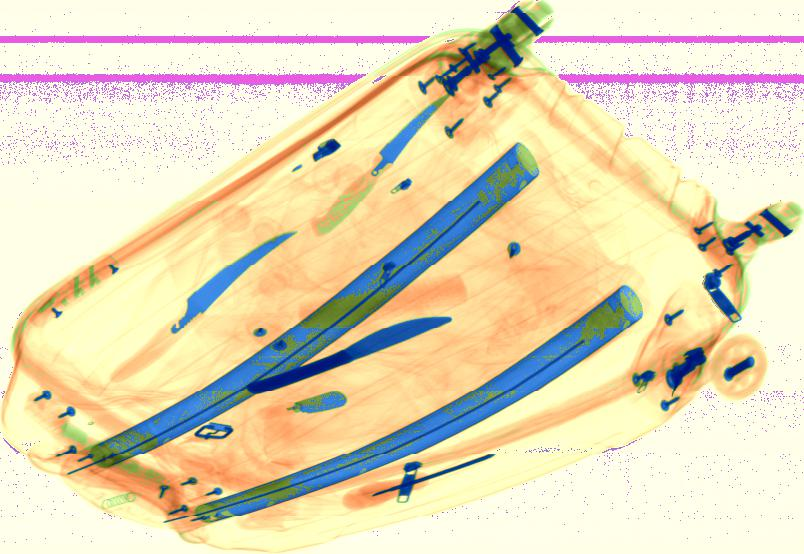Knife: (136, 229, 297, 362), (307, 93, 450, 239), (248, 313, 452, 395), (279, 389, 347, 420)
